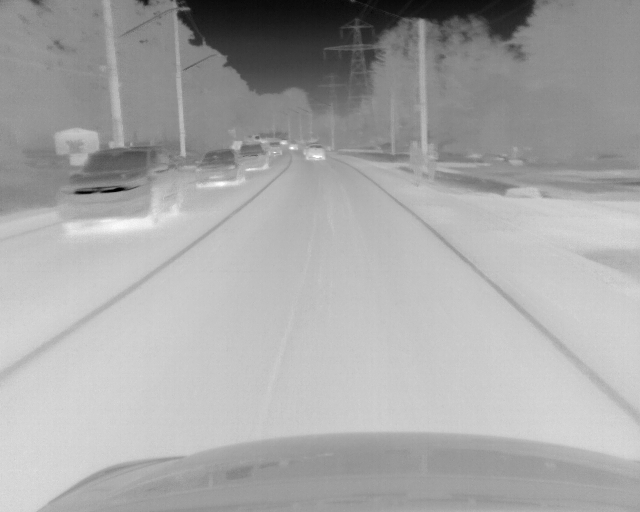car: (55, 144, 187, 228), (193, 149, 243, 187), (240, 143, 268, 171), (305, 145, 324, 164), (266, 141, 283, 158), (286, 140, 299, 152)
people: (409, 139, 424, 188), (425, 143, 438, 188)
